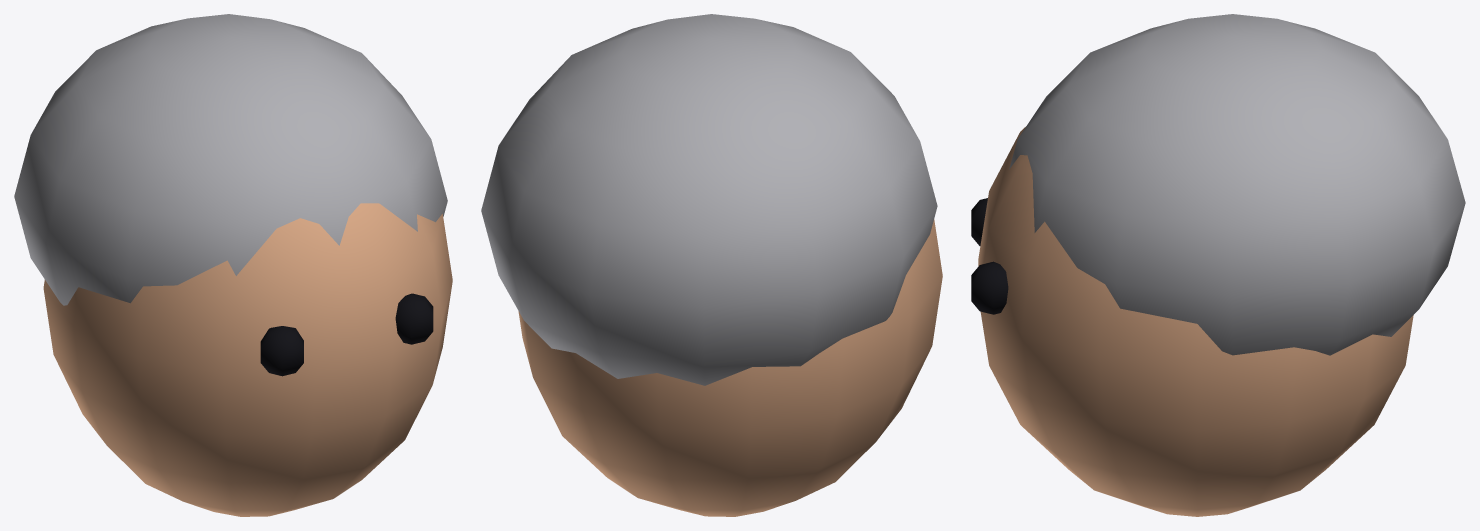
File: CabezaJuez.obj
The picture shows the model from 3 angles, left to right: view 1: azimuth 30°, elevation 25°; view 2: azimuth 150°, elevation 25°; view 3: azimuth 270°, elevation 25°; orthographic projection. The views are drawn at different scales.
Visible parts, largest first — view 1: CabezaJuez; view 2: CabezaJuez; view 3: CabezaJuez.
Part boxes in pixels (x1,y1,x2,y2): CabezaJuez: [14, 14, 452, 516]; CabezaJuez: [481, 14, 942, 516]; CabezaJuez: [971, 14, 1465, 516].
Bounding box in the file's own units: 0.212 × 0.246 × 0.2377.
Materials: 1 (1 with a texture image).
